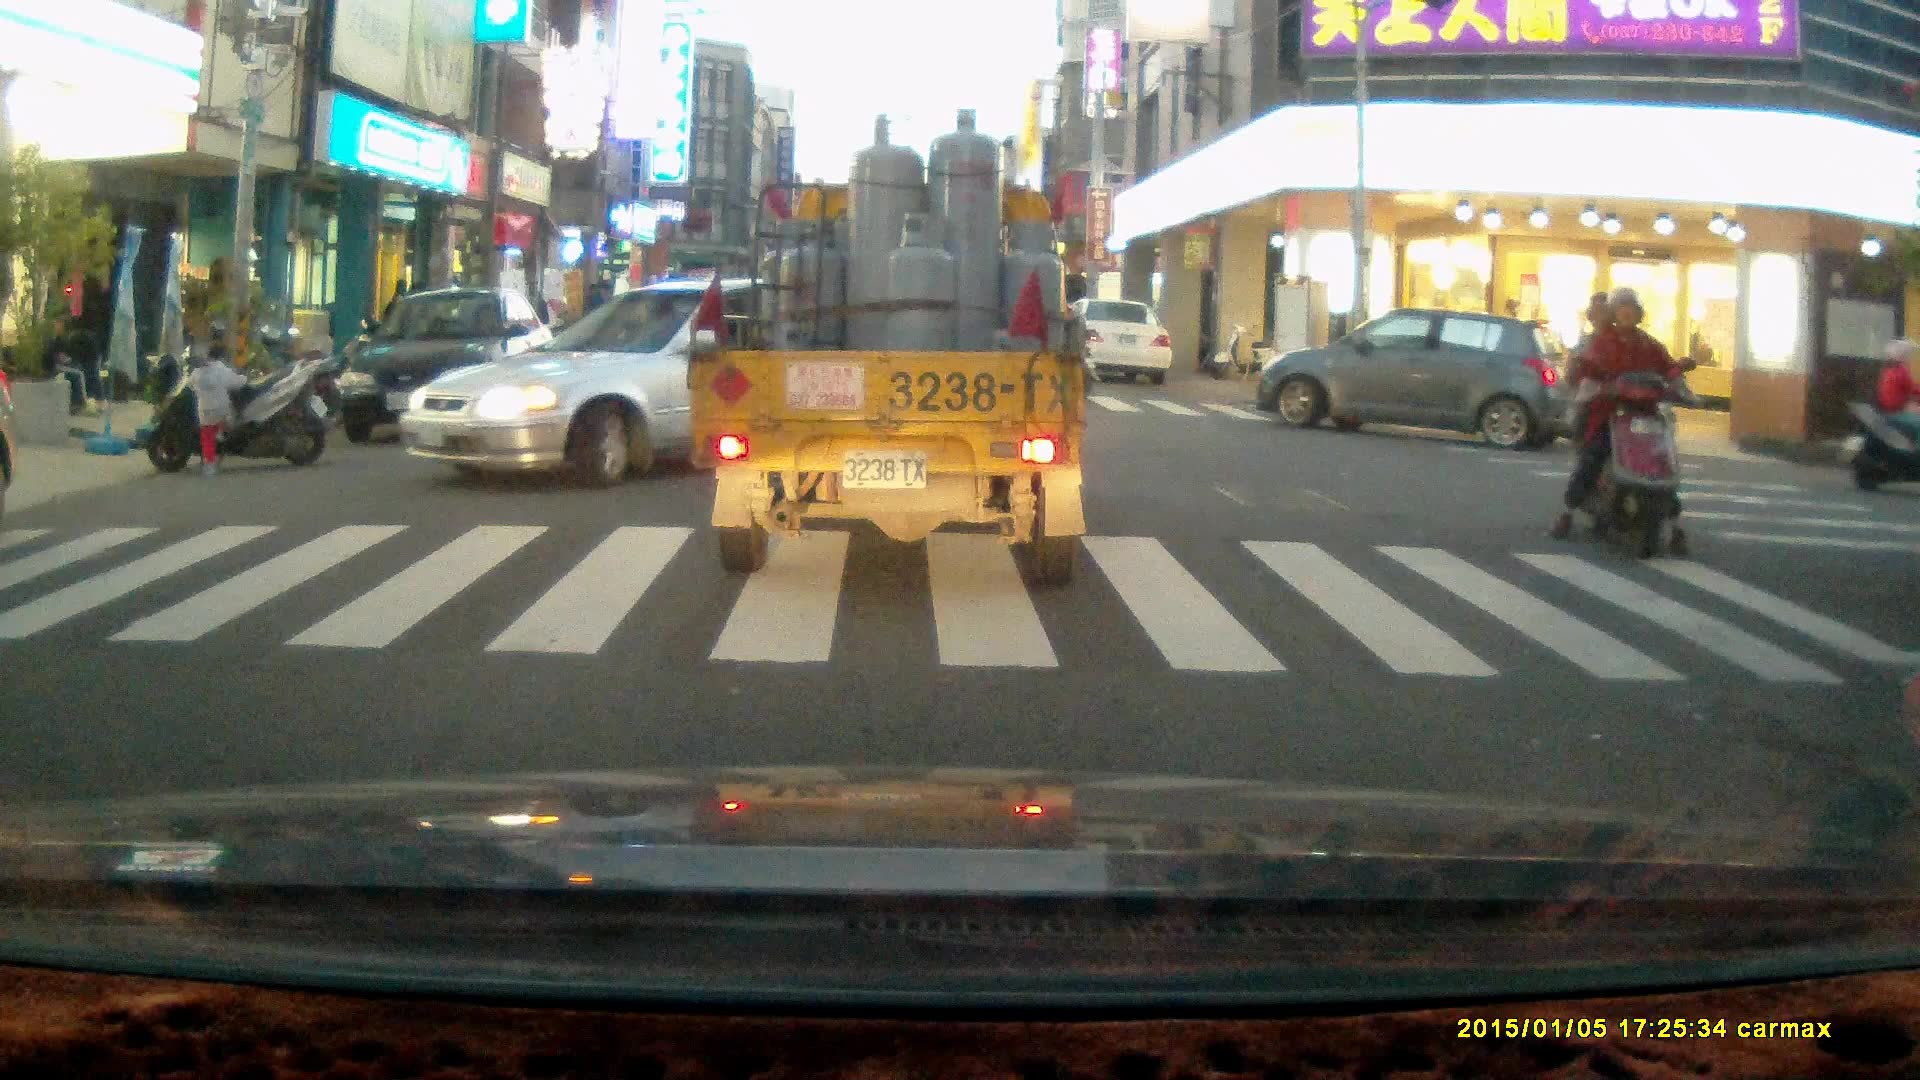pedestrian: (185, 339, 245, 473), (589, 278, 616, 340)
rider: (1548, 286, 1689, 560), (1836, 331, 1920, 492)
vehicle: (685, 109, 1091, 593), (402, 278, 947, 481), (1256, 311, 1567, 446), (333, 286, 560, 440), (1066, 298, 1174, 383)
